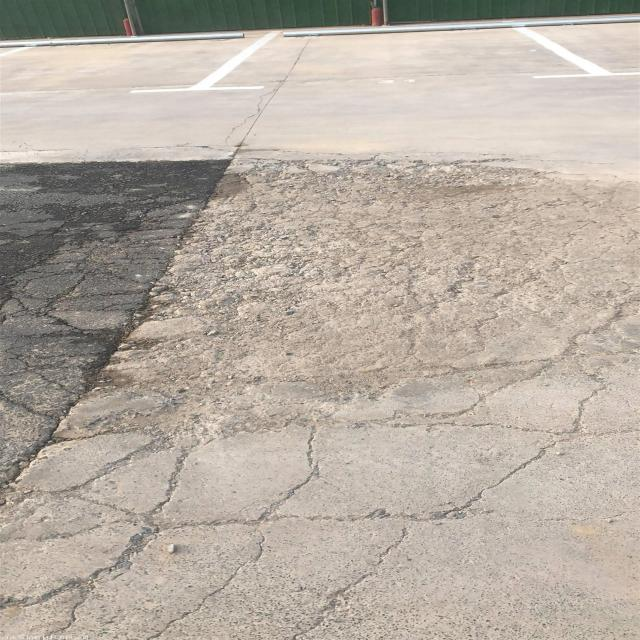Pothole: (76, 157, 620, 428)
